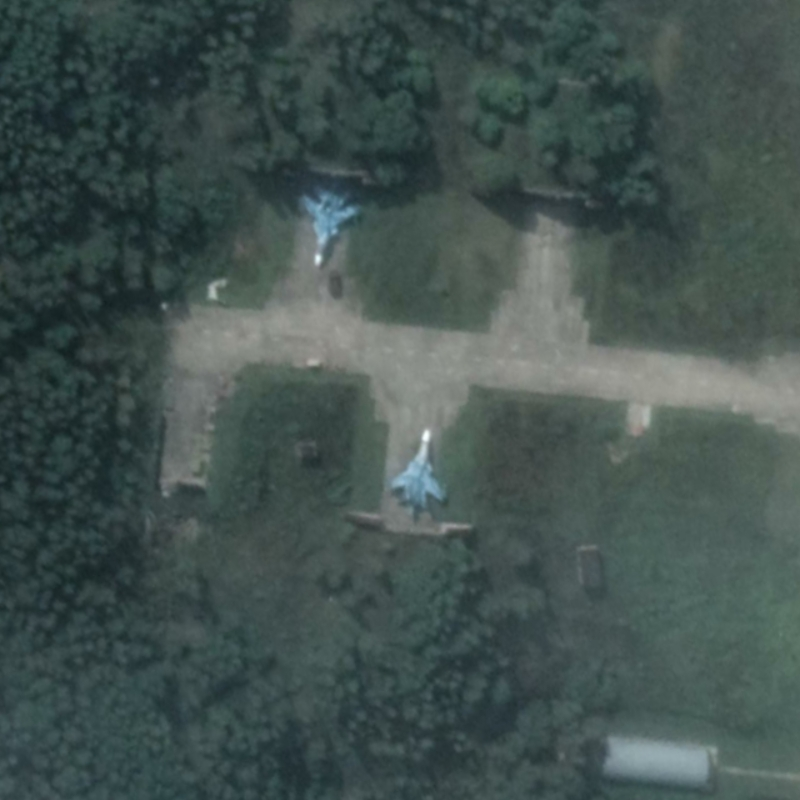A19: (298, 180, 364, 269), (384, 427, 449, 516)
